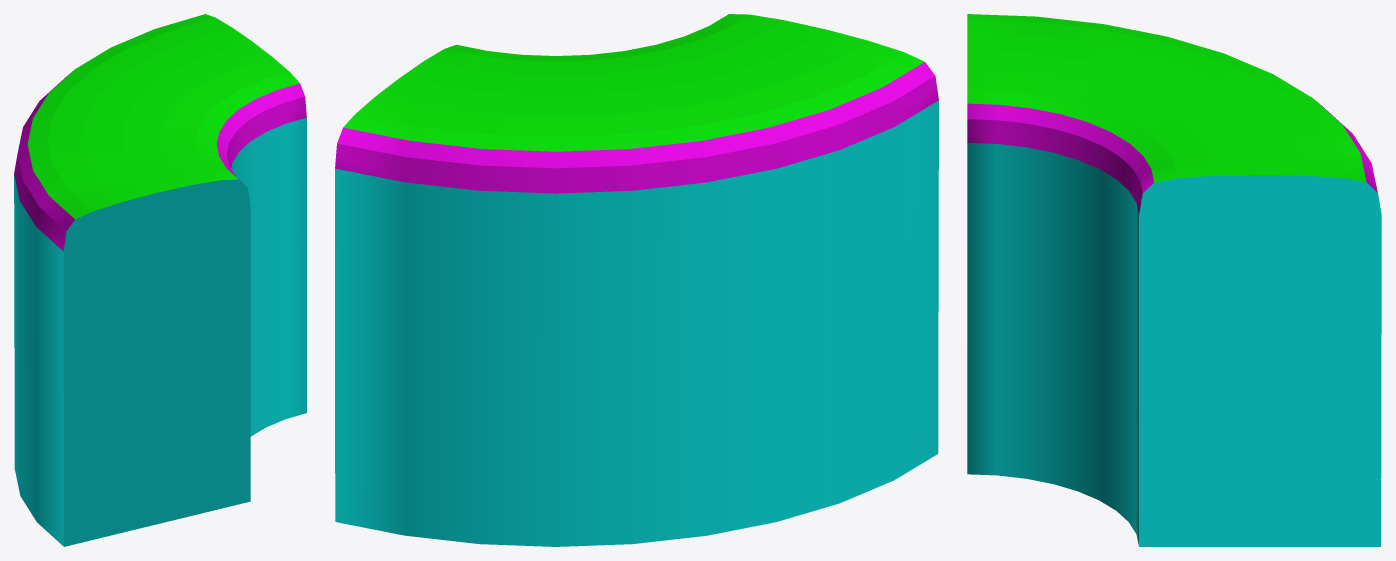
3 views of the same model, side by side, from view 1: azimuth 30°, elevation 25°; view 2: azimuth 150°, elevation 25°; view 3: azimuth 270°, elevation 25° (orthographic). The views are drawn at different scales.
Parts seen in each view (by area): view 1: shape03; view 2: shape03; view 3: shape03.
Boxes of the visible parts, x1,y1,x2,y2 form: shape03: (14,14,306,546); shape03: (335,14,938,546); shape03: (967,14,1381,546).
Size of the model in its own units: 1294 by 1282 by 1294.
